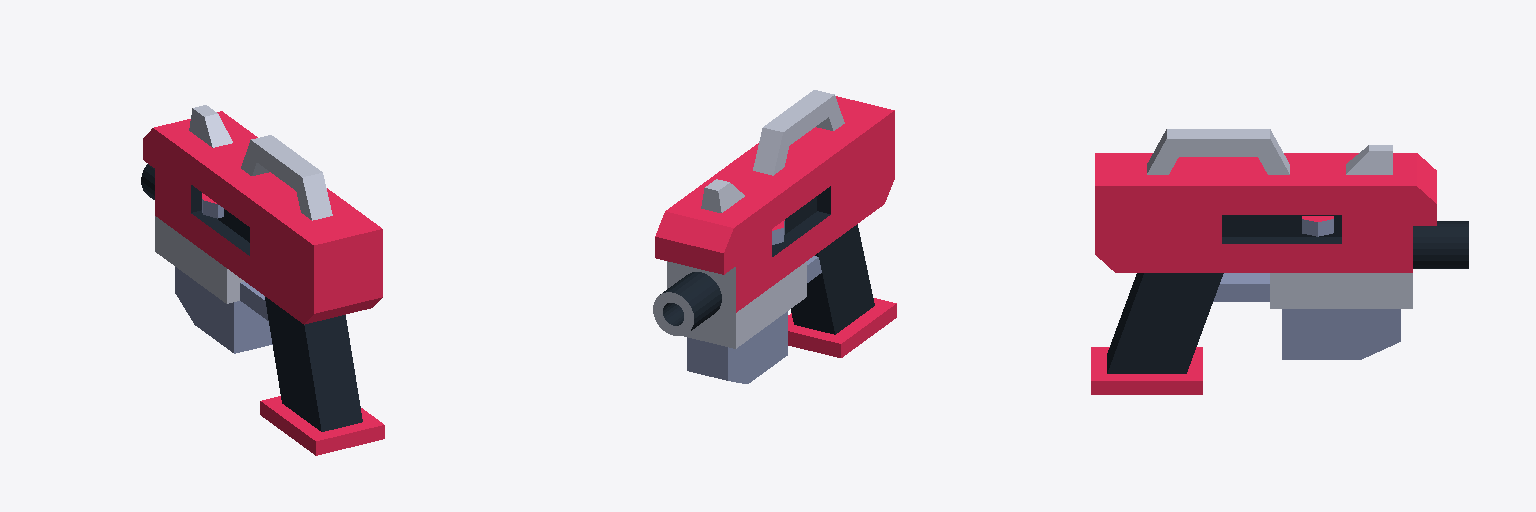
Rendered from blasterC.obj.
The picture shows the model from 3 angles: view 1: azimuth 30°, elevation 25°; view 2: azimuth 150°, elevation 25°; view 3: azimuth 270°, elevation 25°; orthographic projection.
Parts seen in each view (by area): view 1: blasterC; view 2: blasterC; view 3: blasterC.
Part boxes in pixels (left/top/right/bottom): blasterC: left=141, top=105, right=384, bottom=455; blasterC: left=653, top=90, right=896, bottom=383; blasterC: left=1091, top=129, right=1468, bottom=394.
Size of the model in its own units: 0.1 by 0.34 by 0.475.